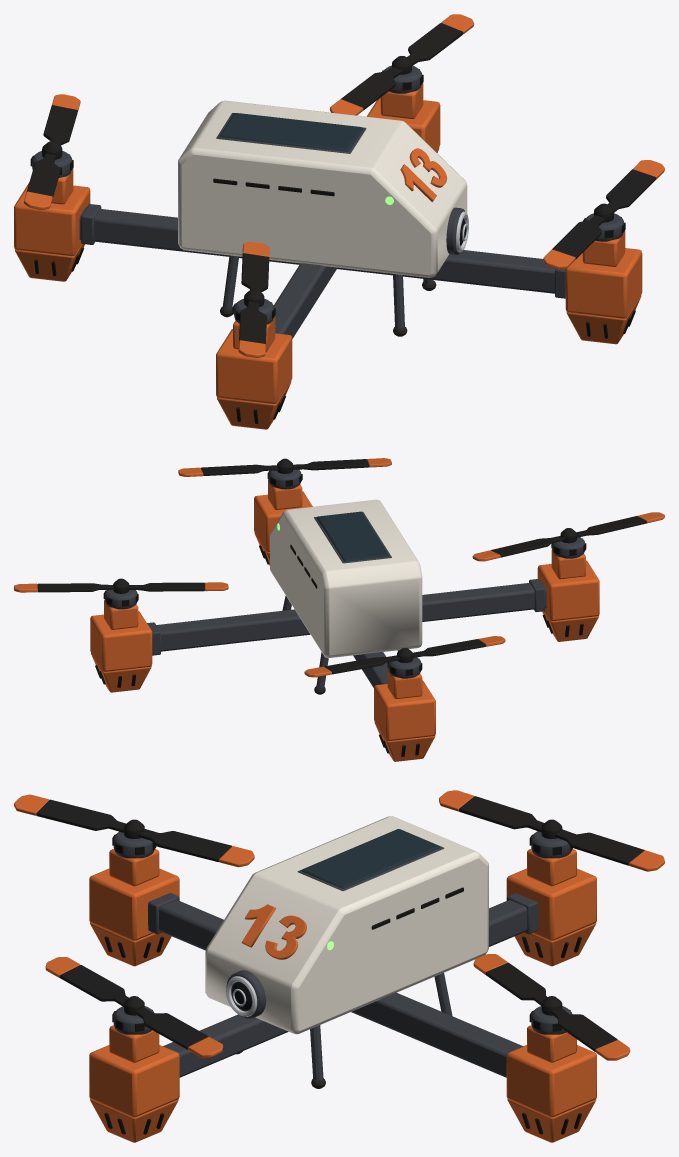
The model's file is drone.glb.
3 views of the same model, one above another, from view 1: azimuth 30°, elevation 25°; view 2: azimuth 150°, elevation 25°; view 3: azimuth 270°, elevation 25° (orthographic). The views are drawn at different scales.
Parts seen in each view (by area): view 1: drone; view 2: drone; view 3: drone.
Boxes of the visible parts, <box> form: drone: <box>14,14,664,429</box>; drone: <box>14,458,664,761</box>; drone: <box>14,790,664,1142</box>.
Size of the model in its own units: 0.5414 by 0.1665 by 0.5623.
